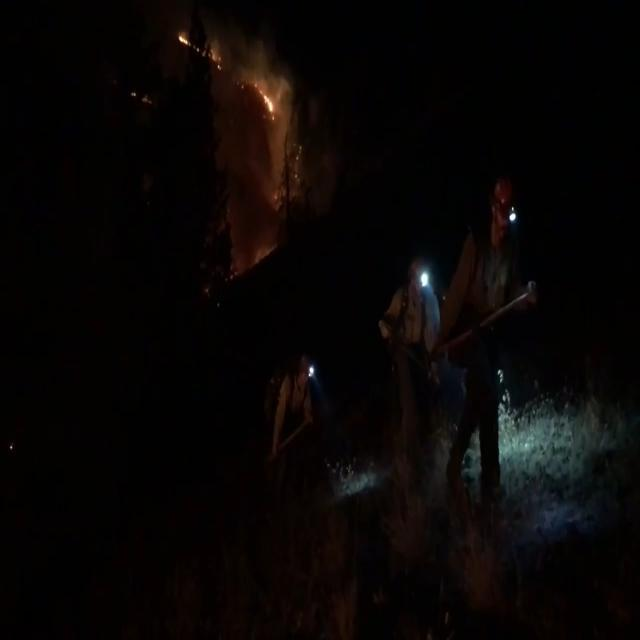Fire: (174, 17, 290, 132)
